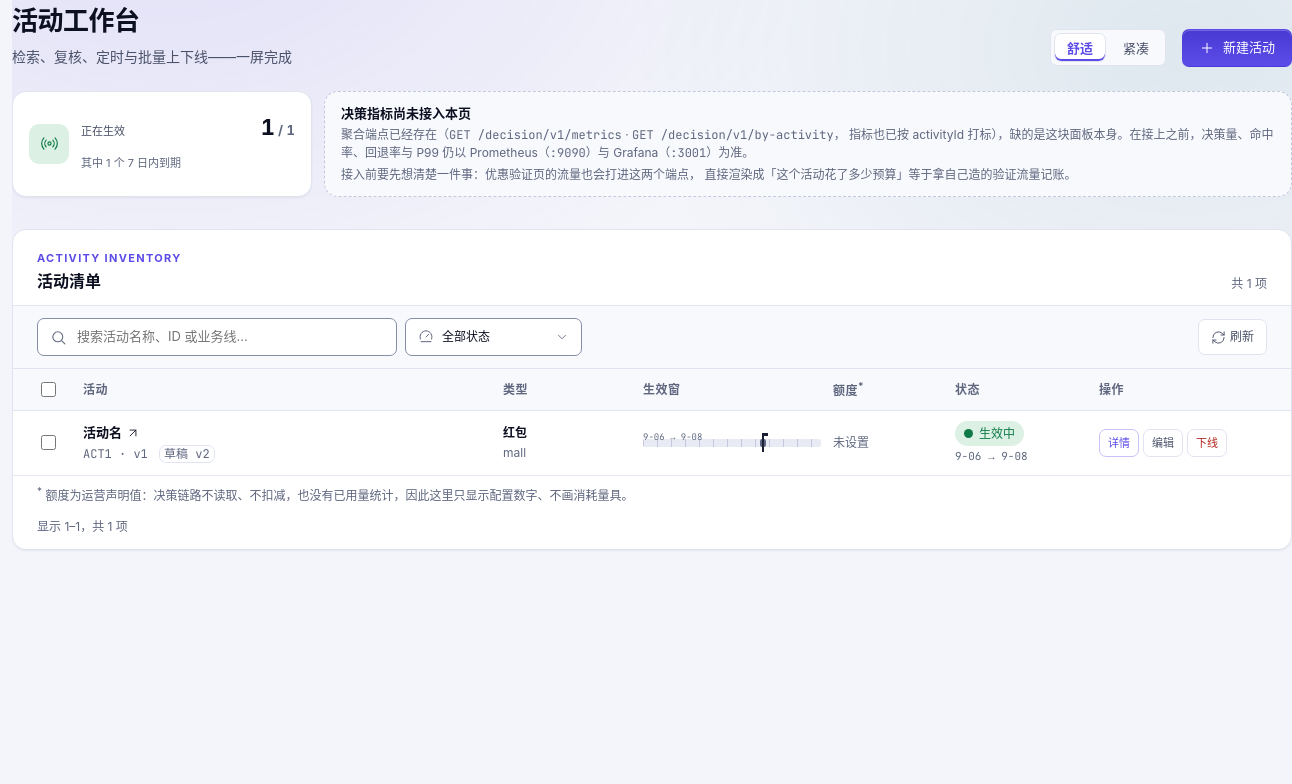
ListView 工作台 › 详情是草稿版而列表行是线上版时，侧板必须挑明版本落差
This screenshot has width=1292, height=784.
Click the button with class "activity-name": point(112, 433) [83,423,140,443]
(page scrolled)
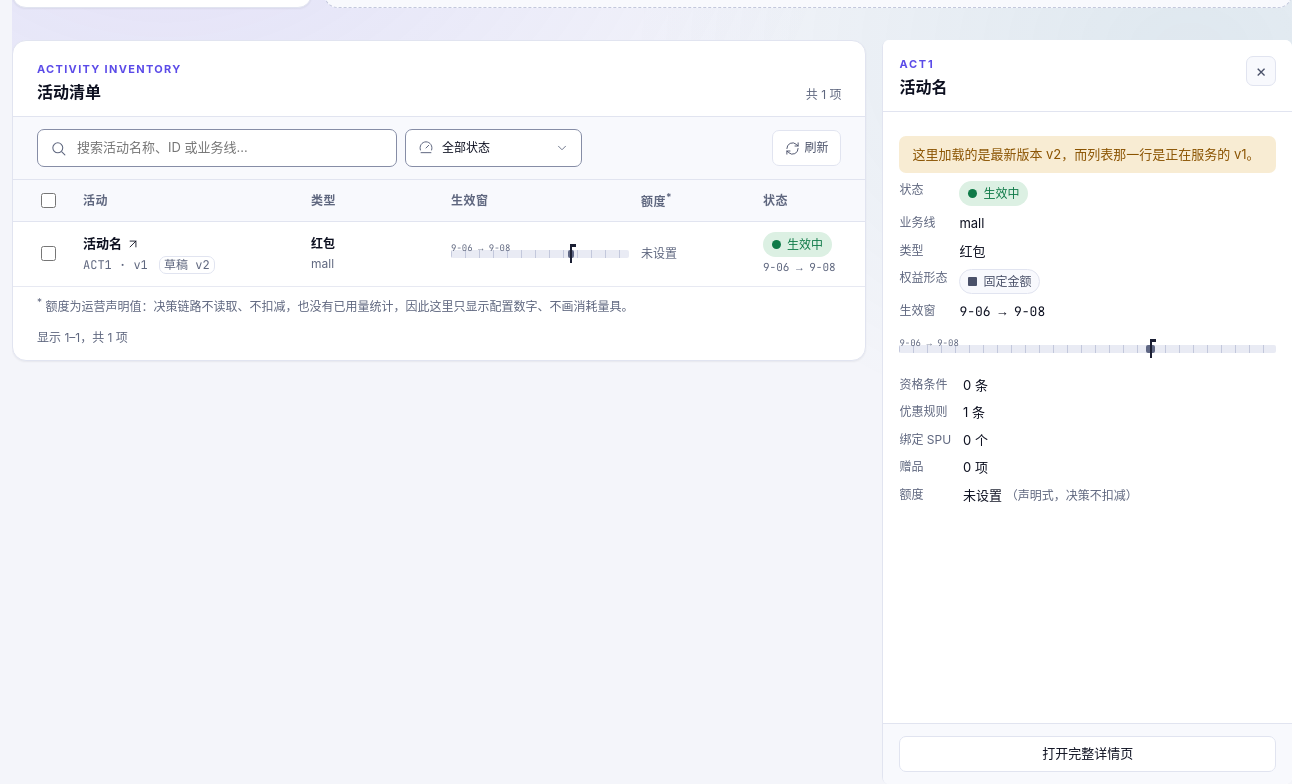
Now the text "这里加载的是最新版本 v2，而列表那一行是正在服务的 v1。" is shown, box [899,136,1276,173]
Now the element with test id "panel-detail" shows "最新版本 v2", box [912,146,1260,162]
Now the element with test id "panel-detail" shows "正在服务的 v1", box [912,146,1260,162]
